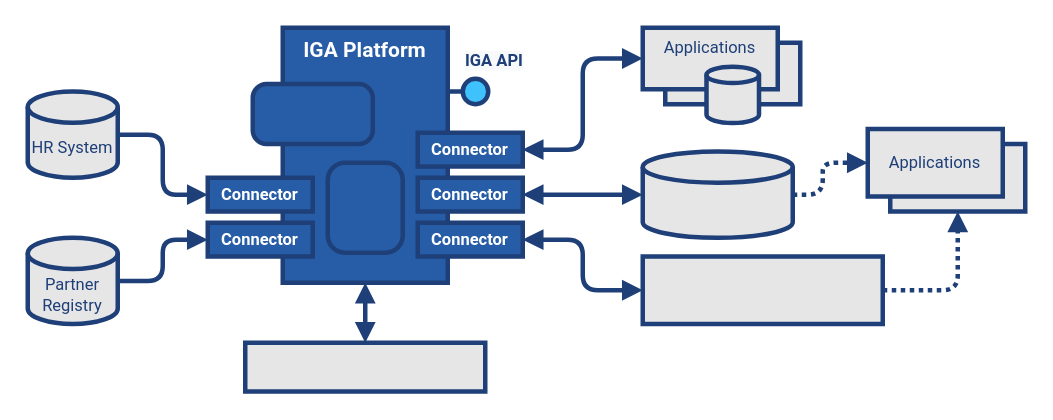
The diagram is 1053 pixels wide and 420 high, and some of its shapes have lost their labels. The centre of each missing label's shape, as x and y in pixels:
Authentication/Authorization Service: pixel 762 290
ITSM / Workflow engine: pixel 364 366
LDAP Active Directory: pixel 717 193
Policies: pixel 364 207
User Interface: pixel 312 113
